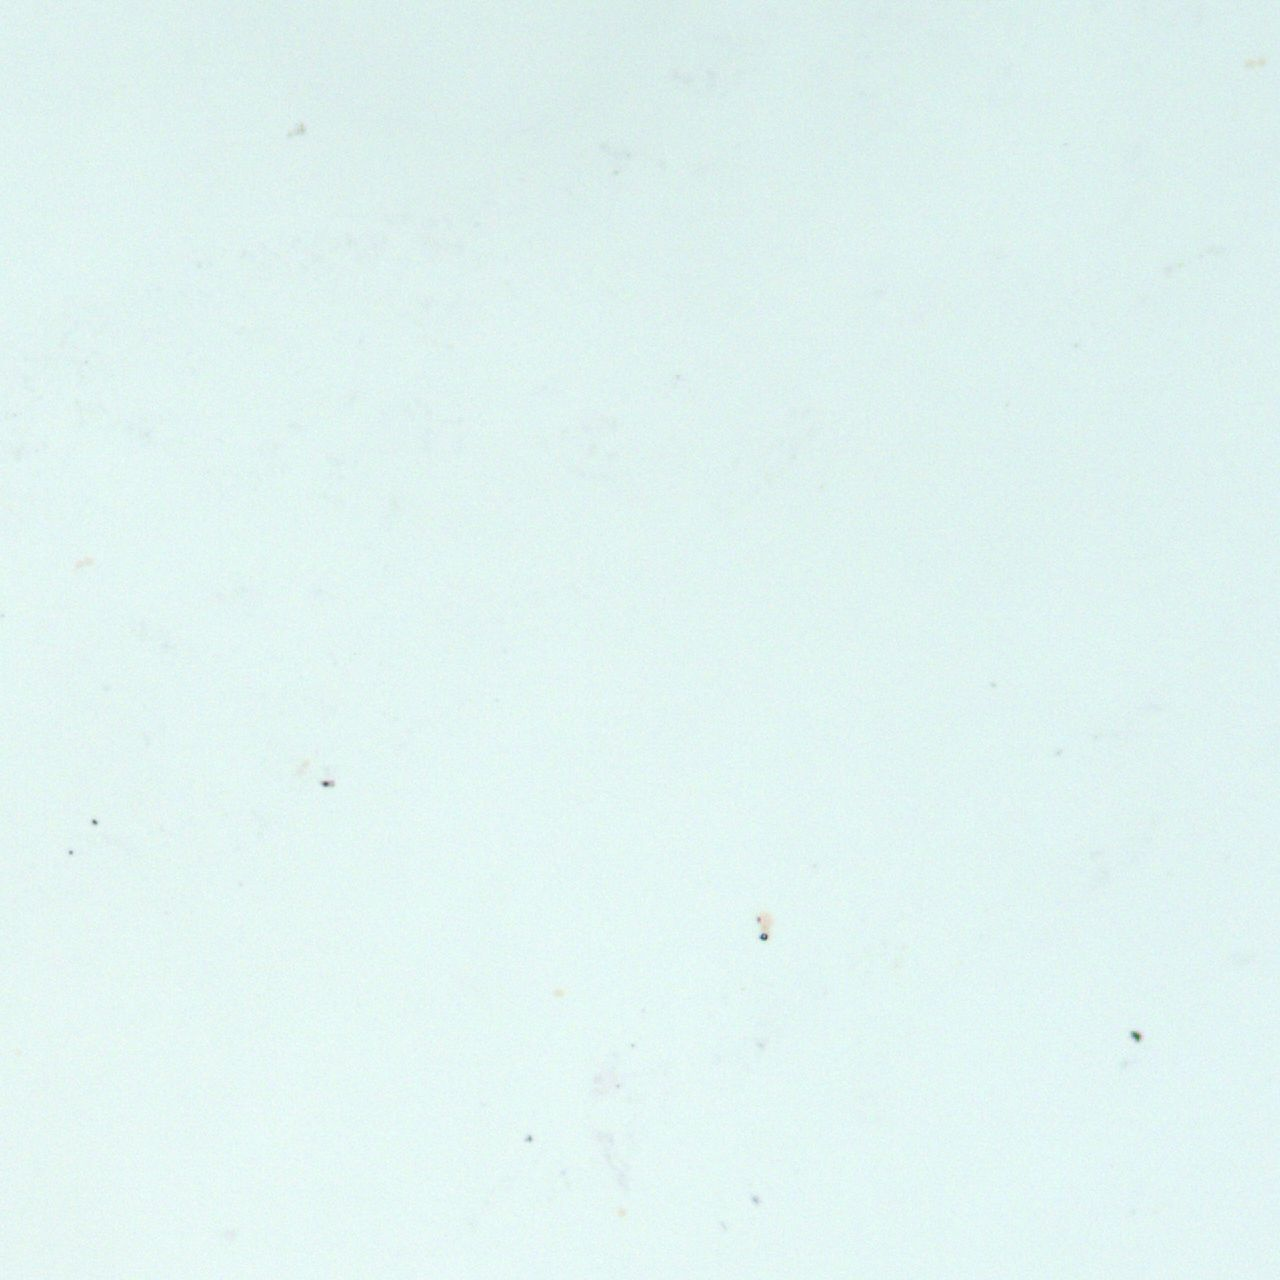dust: (757, 911, 772, 940), (1244, 56, 1267, 68), (551, 987, 564, 998), (1130, 1031, 1142, 1041), (295, 122, 303, 133), (321, 780, 333, 786), (616, 1208, 624, 1216), (526, 1135, 531, 1143), (67, 850, 73, 855), (92, 819, 97, 824)
